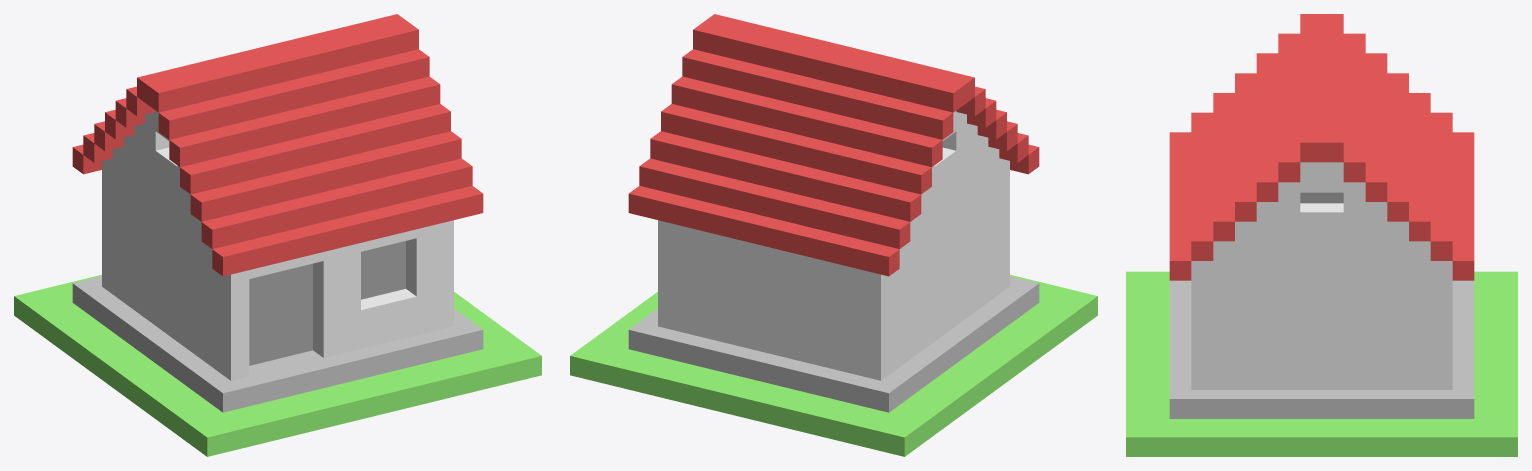
3 renders of one model, left to right at view 1: azimuth 30°, elevation 25°; view 2: azimuth 150°, elevation 25°; view 3: azimuth 270°, elevation 25°, orthographic.
Parts seen in each view (by area): view 1: ObjObject.004; view 2: ObjObject.004; view 3: ObjObject.004.
Boxes of the visible parts, x1,y1,x2,y2 form: ObjObject.004: (14,14,541,456); ObjObject.004: (570,14,1097,456); ObjObject.004: (1126,14,1517,456).
Size of the model in its own units: 1 by 1 by 0.8333.
